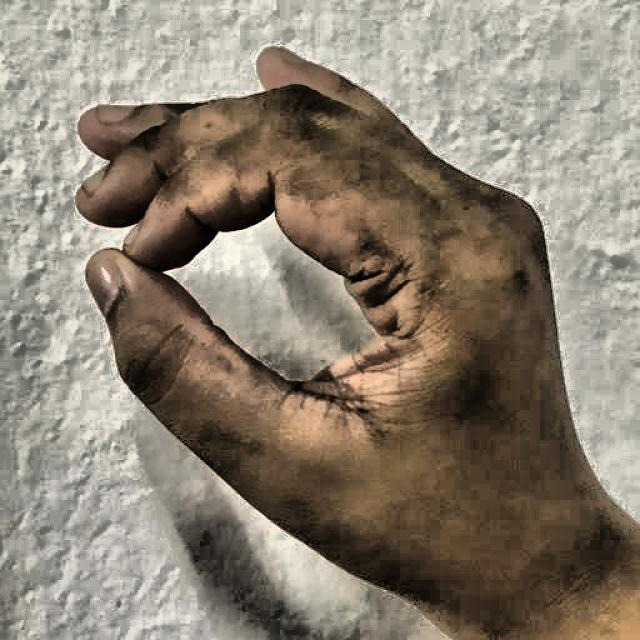Yo: (27, 7, 600, 627)
